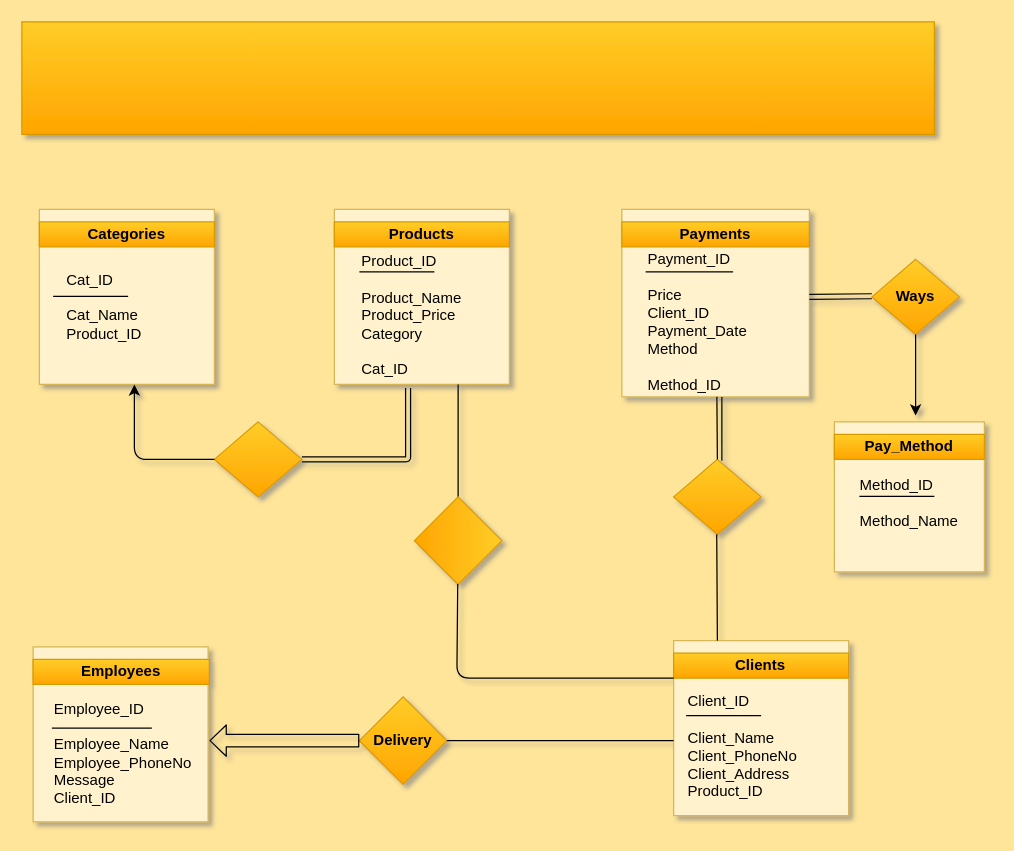
The diagram is 1014 pixels wide and 851 high, and some of its shapes have lost their labels. The shapes that lost their labels are listed below. From the top down, each one's centre as x and y in pixels, then its label:
At point 477,77: "E-R Diagram of Farm Management System".
At point 257,459: "Has".
At point 716,496: "Pay".
At point 457,540: "Order".
